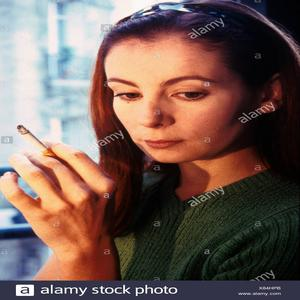cigarette: (14, 124, 54, 157)
